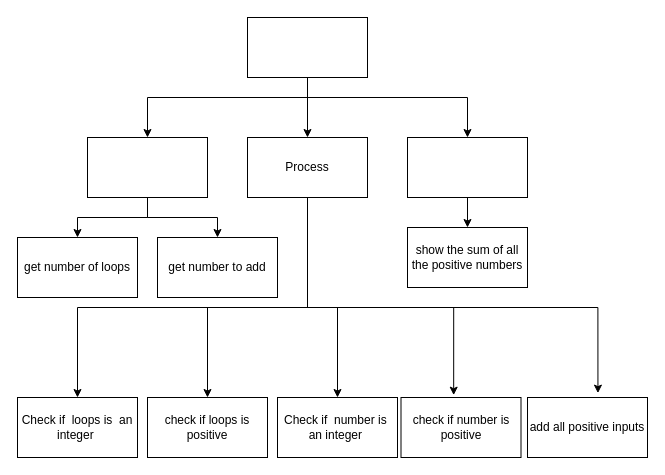
The diagram is 665 pixels wide and 475 high, and some of its shapes have lost their labels. Here are the shapes that lost their labels. From the top down, the centre of each, then its label:
At (307,47): "continue loops".
At (147,167): "Input".
At (467,167): "Output".
